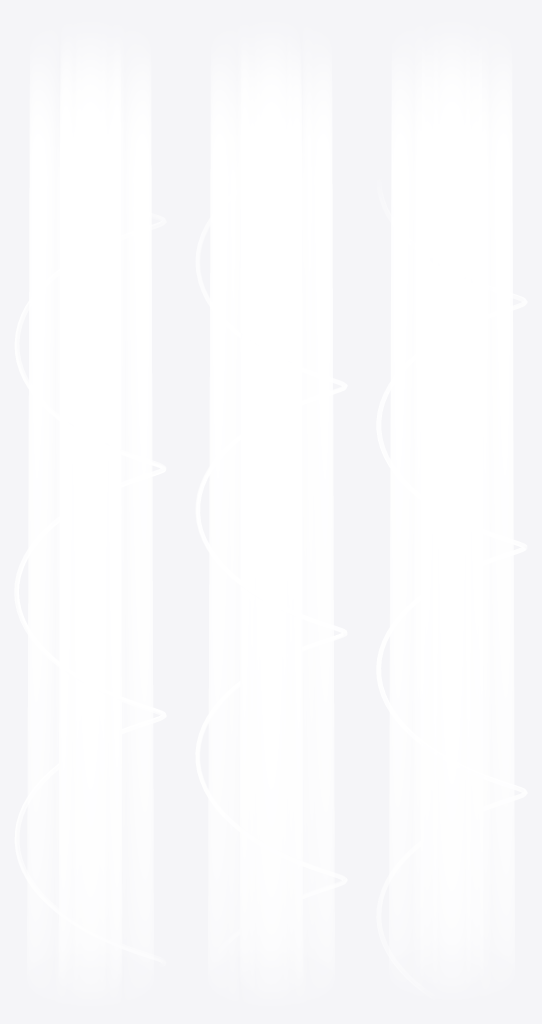
The model's file is fx-cot-sang.glb.
The picture shows the model from 3 angles, left to right: view 1: azimuth 30°, elevation 25°; view 2: azimuth 150°, elevation 25°; view 3: azimuth 270°, elevation 25°; orthographic projection.
Parts seen in each view (by area): view 1: beam; view 2: beam; view 3: beam.
Part boxes in pixels (box(x1,y1,x2,y2)): beam: box(14, 33, 166, 999); beam: box(195, 33, 347, 999); beam: box(376, 33, 527, 997).
Bounding box in the file's own units: 3.52 × 24.05 × 3.52.
Materials: 1 (1 with a texture image).
